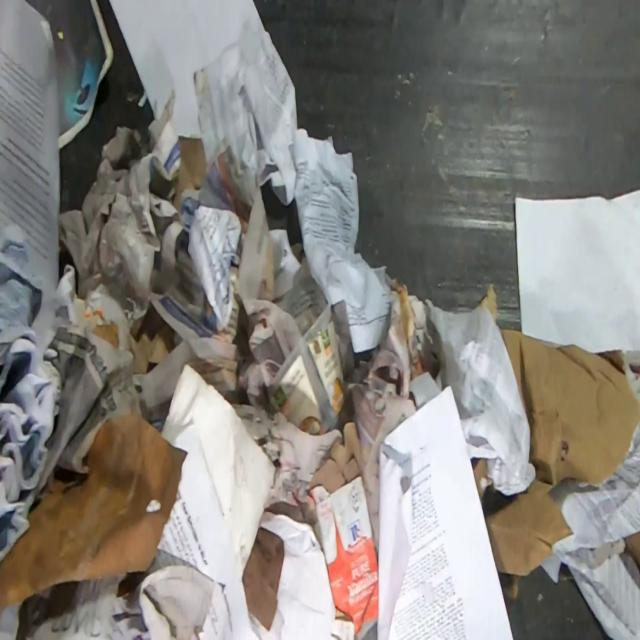cardboard: (476, 284, 640, 600), (307, 475, 380, 638), (171, 136, 206, 214), (621, 528, 640, 575)
rigid_plastic: (266, 304, 348, 435)
